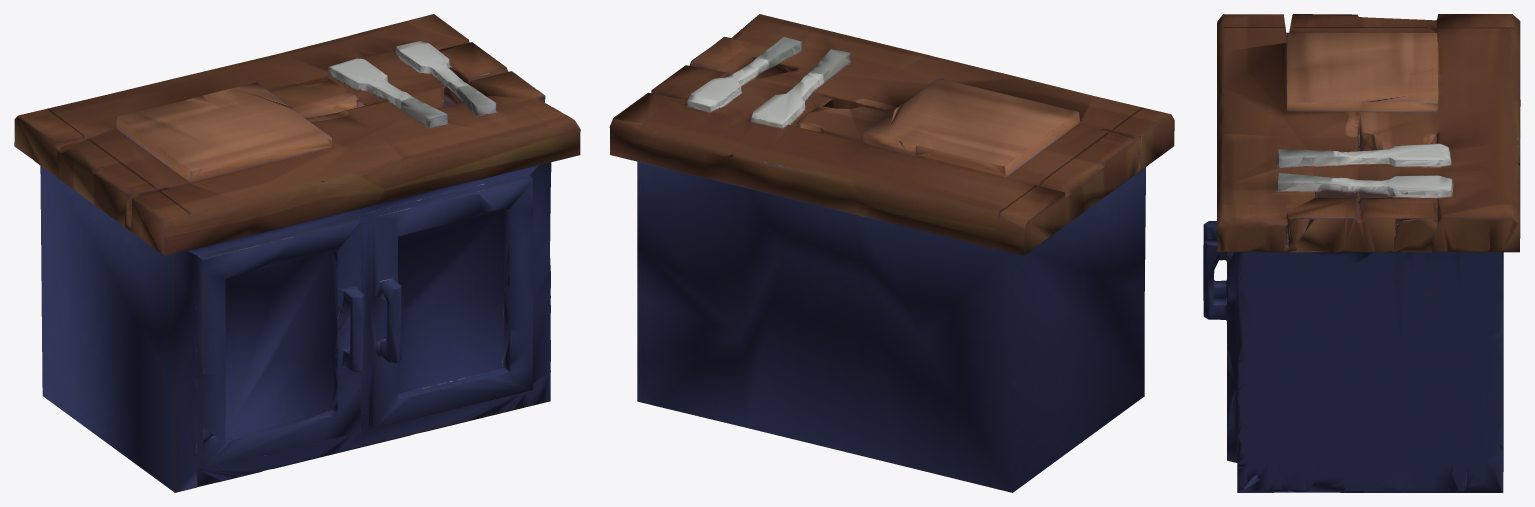
The model's file is counter.glb.
3 views of the same model, side by side, from view 1: azimuth 30°, elevation 25°; view 2: azimuth 150°, elevation 25°; view 3: azimuth 270°, elevation 25° (orthographic).
Visible parts, largest first — view 1: Mesh_0; view 2: Mesh_0; view 3: Mesh_0.
Boxes of the visible parts, x1,y1,x2,y2 form: Mesh_0: (14, 14, 580, 492); Mesh_0: (609, 14, 1174, 492); Mesh_0: (1203, 14, 1520, 492).
Size of the model in its own units: 1.91 by 1.29 by 1.25.
1 material, 1 textured.
